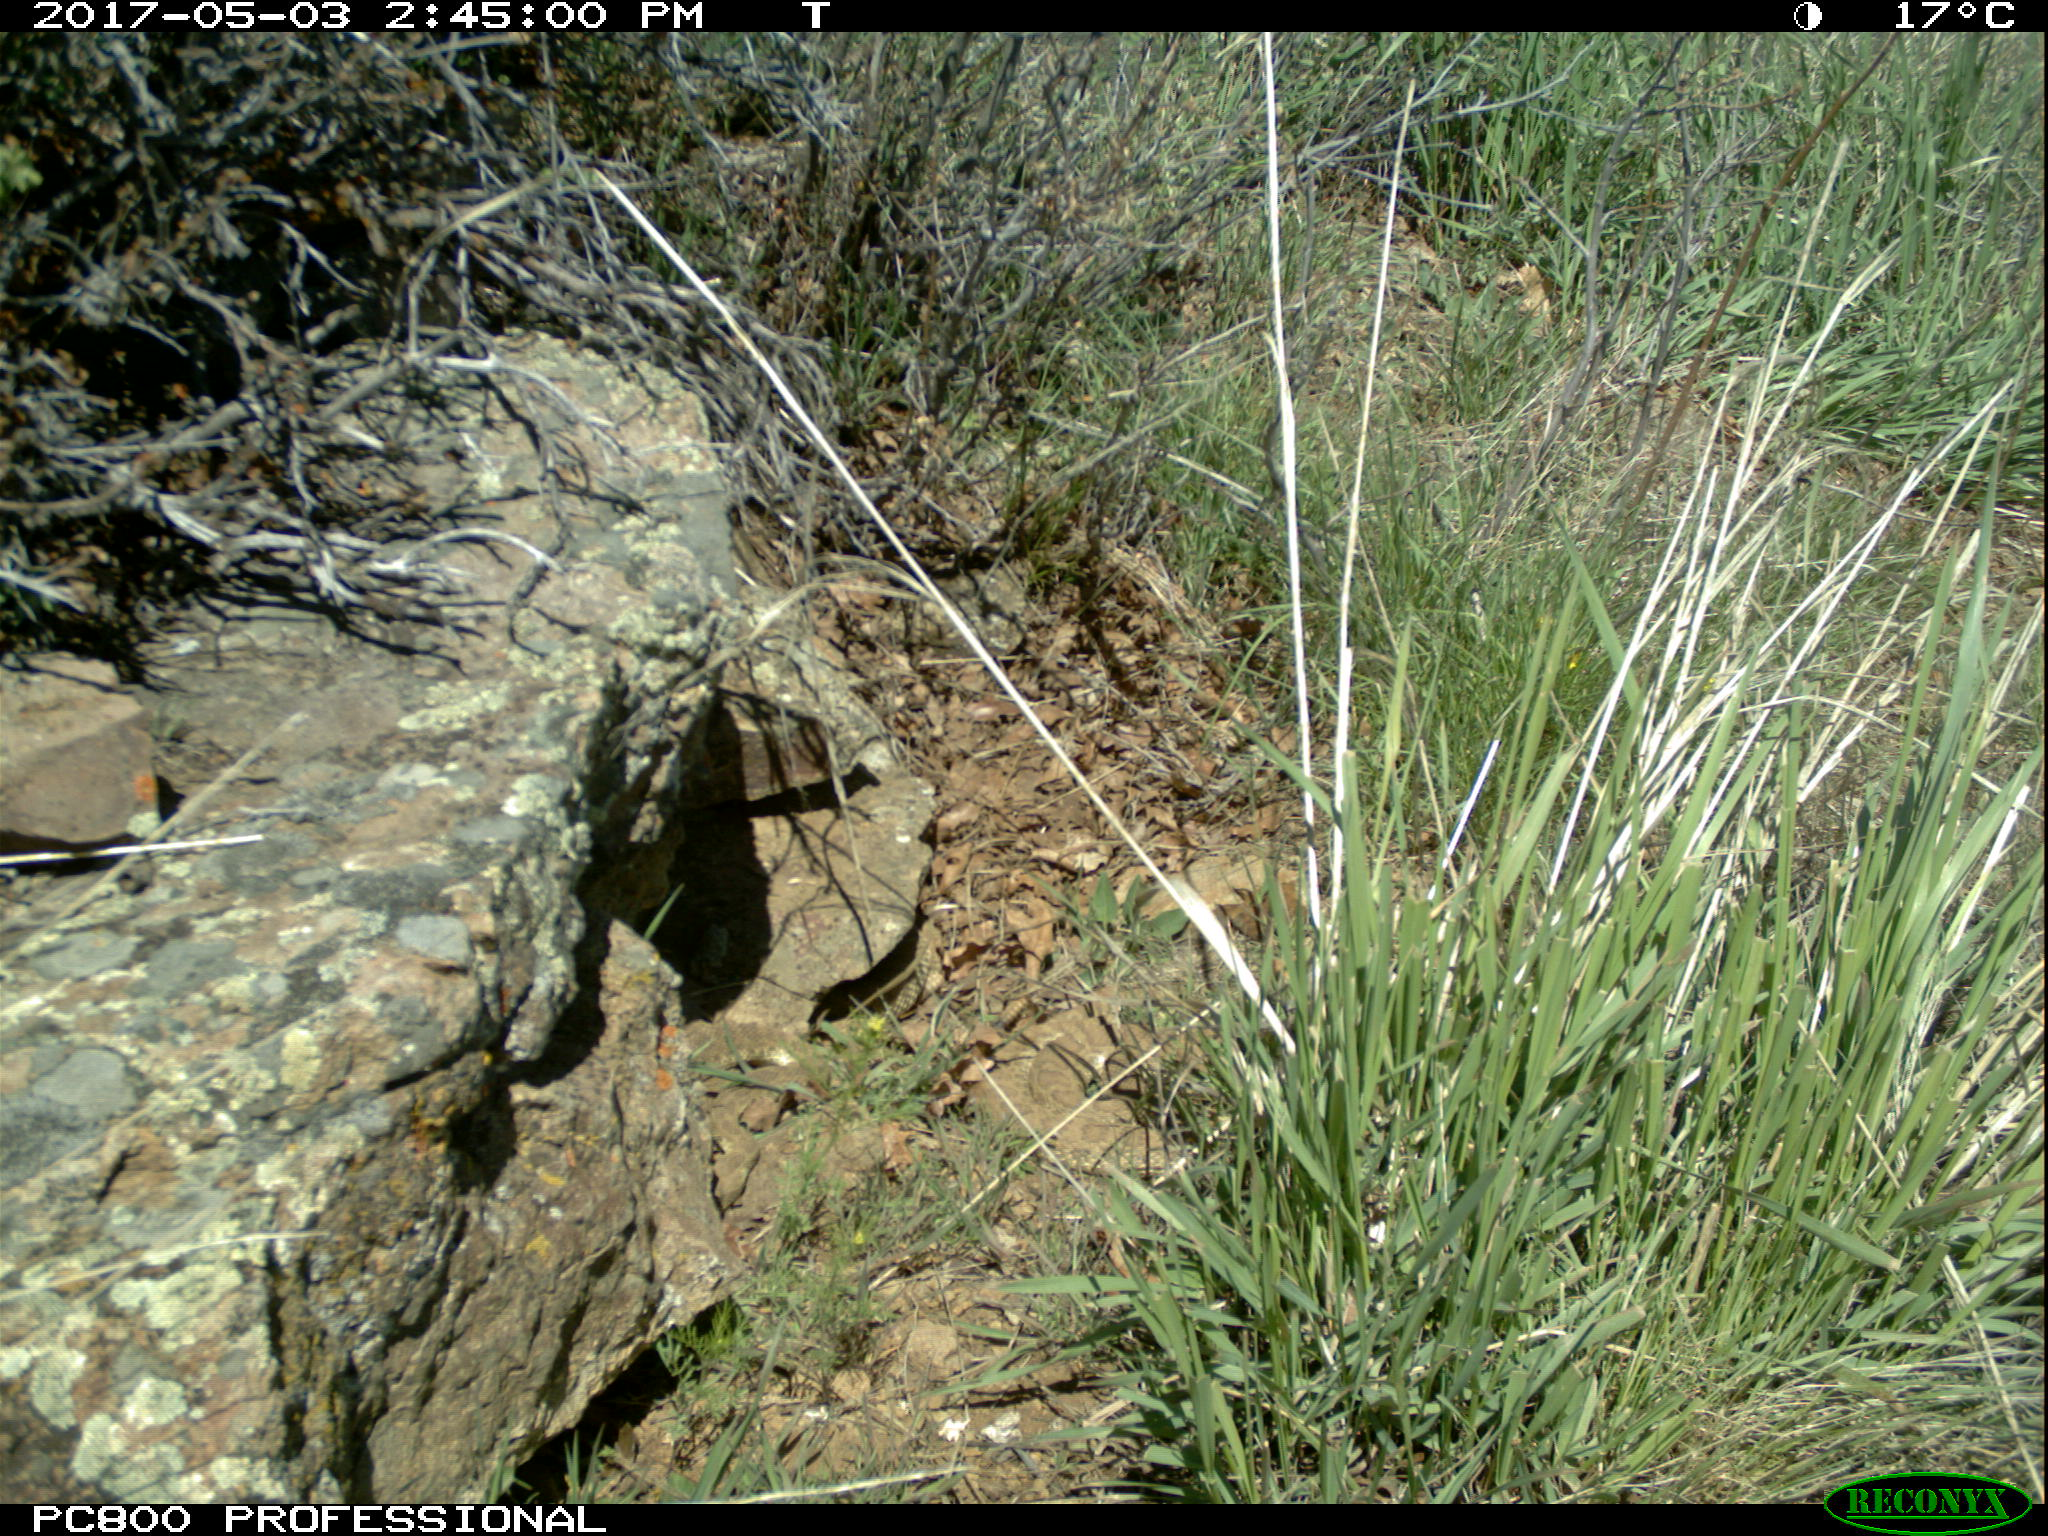snake: (977, 1015, 1208, 1179)
